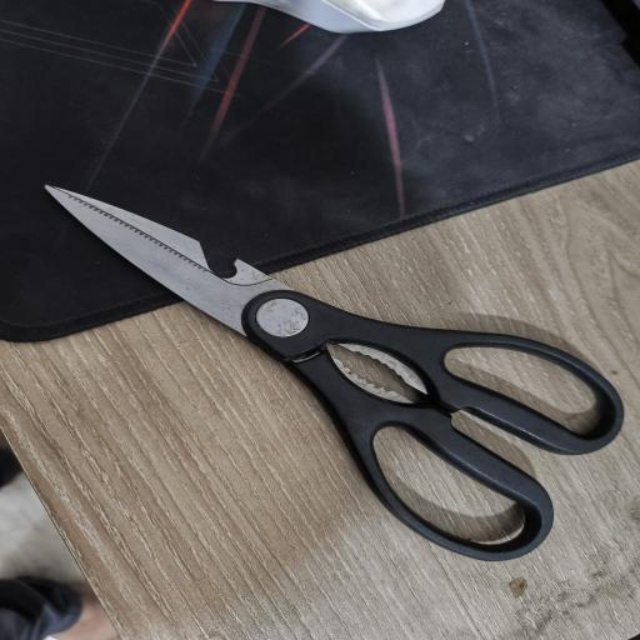scissor: (42, 184, 625, 563)
